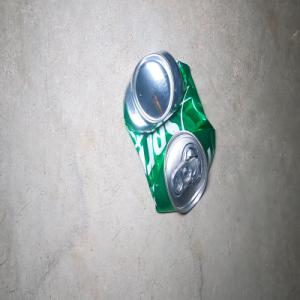SodaCan: (123, 50, 215, 213)
